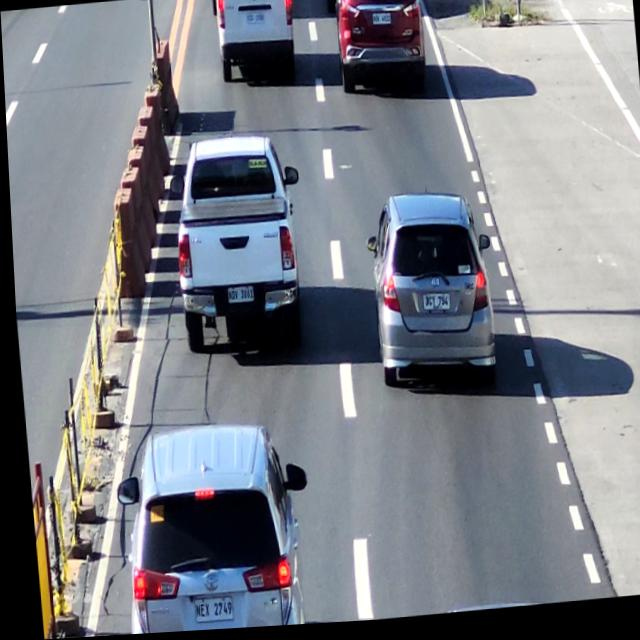Car: (112, 426, 304, 636), (166, 134, 303, 361), (361, 188, 499, 400), (332, 0, 427, 103), (210, 0, 301, 88)
License-Plate: (184, 593, 228, 628), (416, 288, 451, 321), (221, 283, 252, 311), (370, 12, 394, 32), (244, 10, 267, 28)
